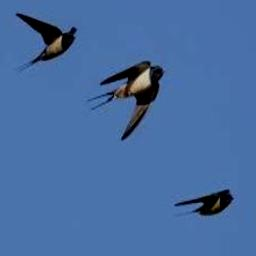Swallow: (85, 60, 164, 140), (15, 13, 76, 73), (173, 189, 233, 217)
